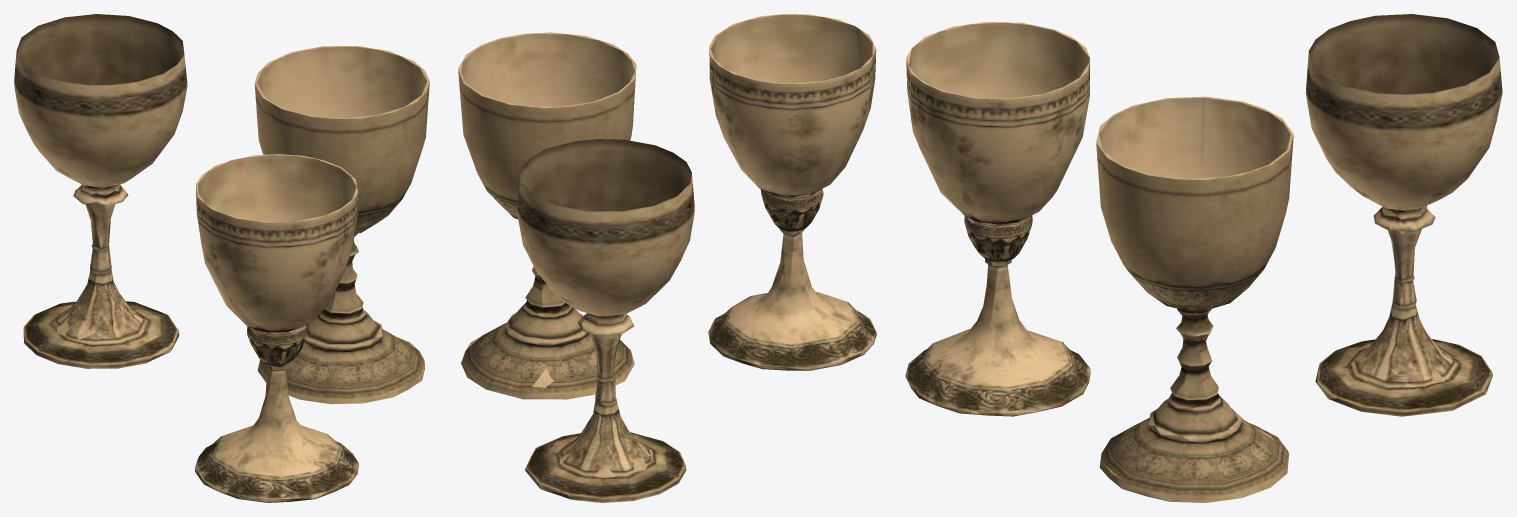
The model's file is goblets-brass.lod1.glb.
3 renders of one model, left to right at view 1: azimuth 30°, elevation 25°; view 2: azimuth 150°, elevation 25°; view 3: azimuth 270°, elevation 25°, orthographic. The views are drawn at different scales.
Visible parts, largest first — view 1: goblets-brass; view 2: goblets-brass; view 3: goblets-brass.
Boxes of the visible parts, box(x1,y1,x2,y2) form: goblets-brass: box(14, 14, 429, 502); goblets-brass: box(458, 14, 876, 502); goblets-brass: box(905, 14, 1502, 502).
Size of the model in its own units: 0.298 by 0.2734 by 0.4539.
Materials: 3 (3 with a texture image).
